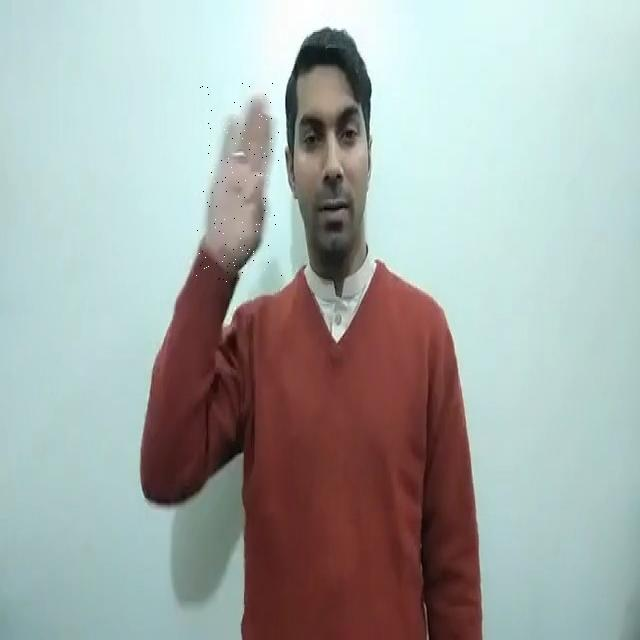hello: (196, 80, 282, 282)
